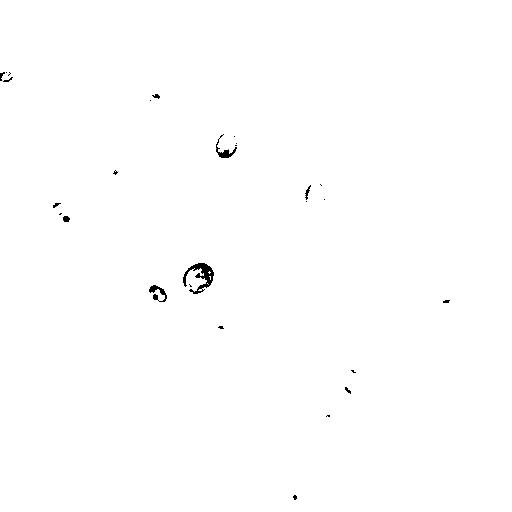micro-algae: (35, 147, 105, 217), (481, 77, 512, 143), (96, 161, 141, 201), (181, 260, 216, 297), (423, 285, 461, 314), (473, 340, 510, 369), (309, 347, 338, 383), (213, 129, 241, 161), (304, 180, 329, 215), (49, 202, 79, 231), (335, 365, 361, 395), (278, 477, 306, 503), (147, 284, 170, 305), (228, 231, 243, 249), (1, 69, 15, 84)
